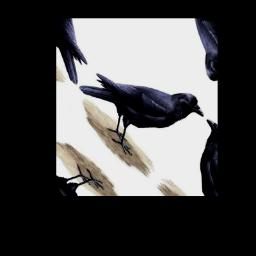Crow: (68, 28, 209, 181)
